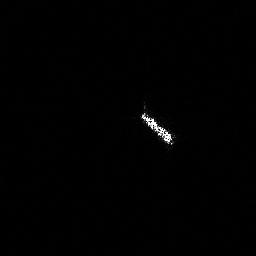ship: (141, 113, 172, 144)
